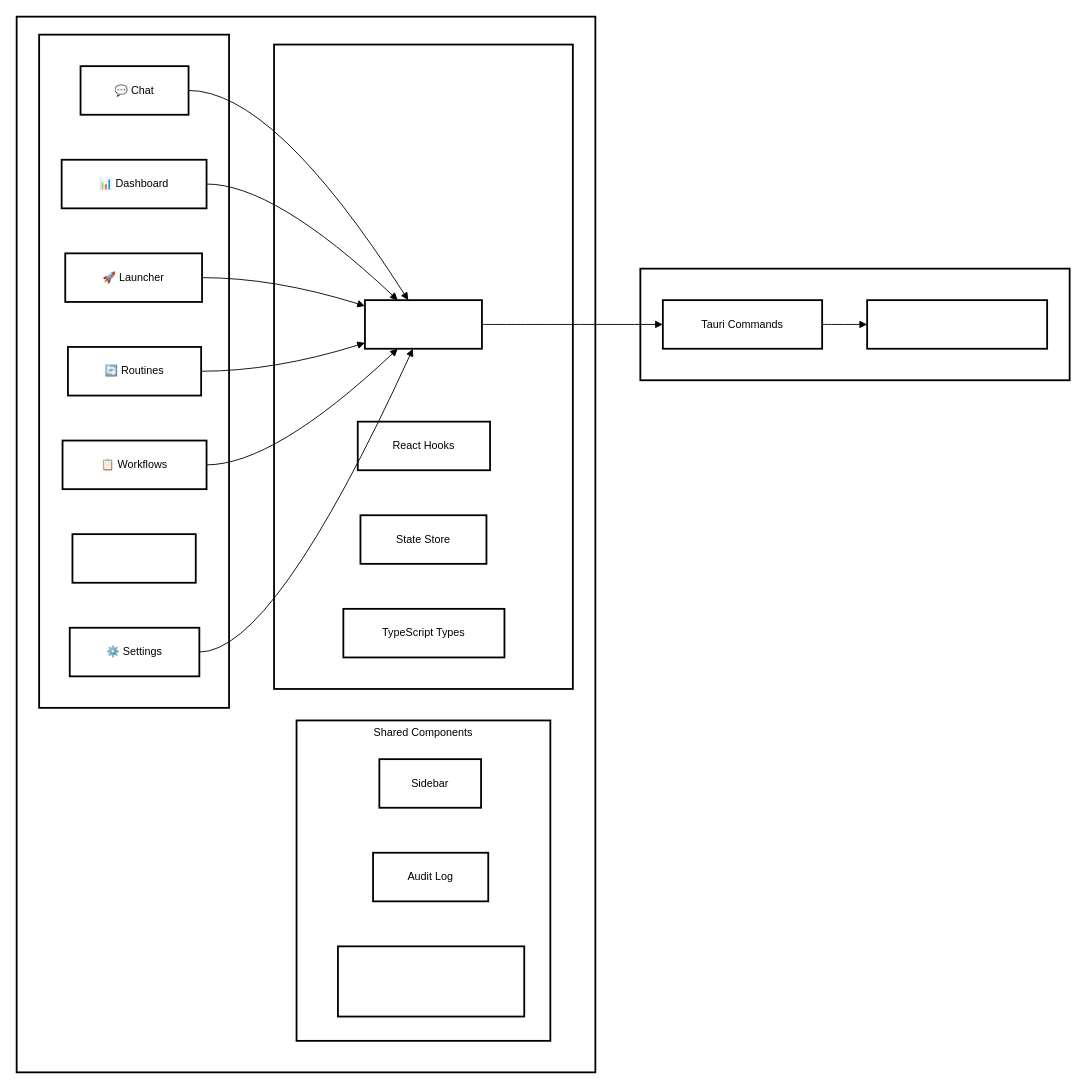
Some shapes in this 1085 by 1088 pixel diagram are drawn without their labels. Here are the shapes that lost their labels. From the top down, the box of each, then its label:
(364, 299, 482, 349): API Client
(639, 267, 1070, 381): src-tauri (Rust Backend)
(866, 299, 1048, 349): Core Sidecar Binary
(273, 43, 573, 689): Library
(71, 533, 196, 583): 🧩 Widget
(15, 15, 596, 1073): Tauri Desktop App (web/)
(337, 945, 525, 1017): UI Components (Button/Input/Card)
